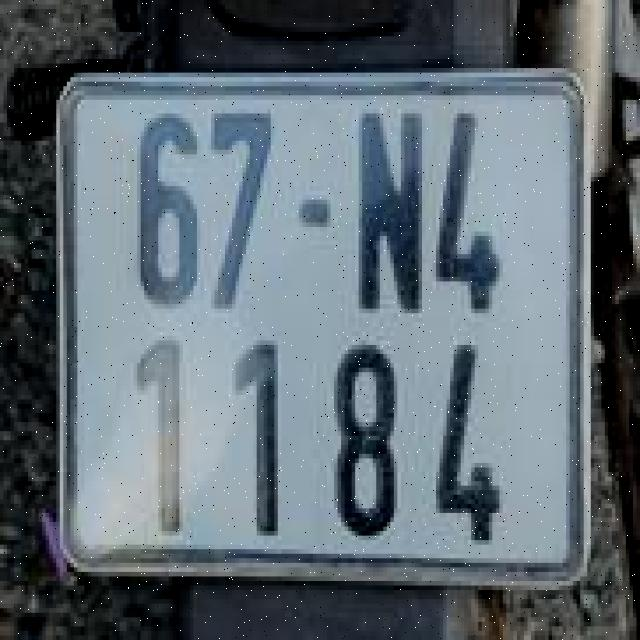1: (220, 331, 294, 545), (123, 322, 190, 536)
4: (431, 104, 508, 318), (429, 336, 503, 554)
6: (132, 111, 206, 311)
7: (206, 102, 280, 325)
8: (328, 331, 402, 545)
N: (341, 102, 433, 320)
